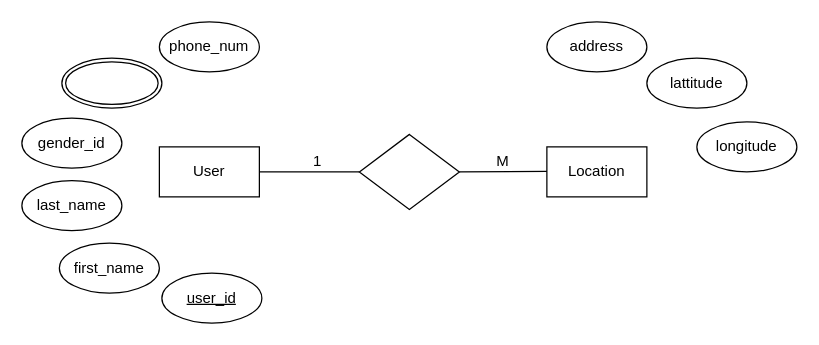
Some shapes in this 819 by 345 pixel diagram are drawn without their labels. The centre of each missing label's shape, as x and y in pixels:
"email_id" goes at point 111,82.
"prefers" goes at point 408,171.
